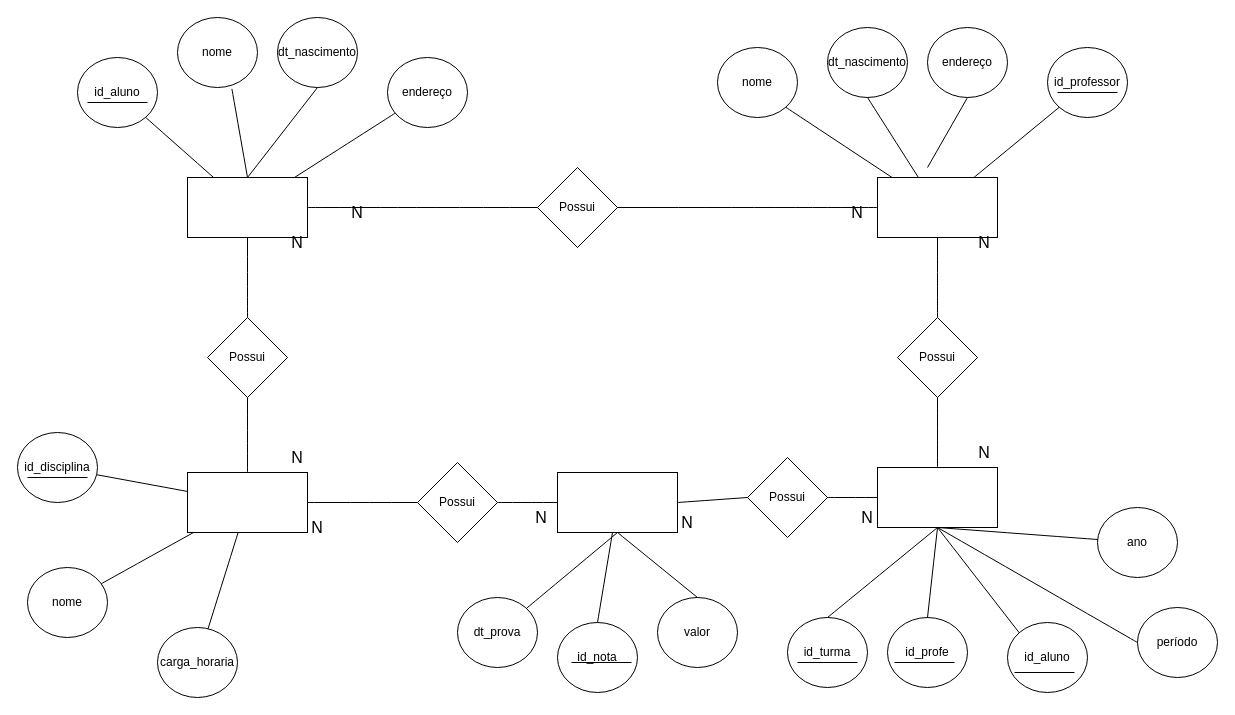
Some shapes in this 1235 by 715 pixel diagram are drawn without their labels. The box of each missing label's shape, as (x1, y1, x2, y2) in pixels:
ALUNO: (186, 176, 308, 238)
DISCIPLINA: (186, 472, 308, 532)
NOTA: (556, 472, 678, 532)
PROFESSOR: (876, 176, 998, 238)
TURMA: (876, 466, 998, 528)
